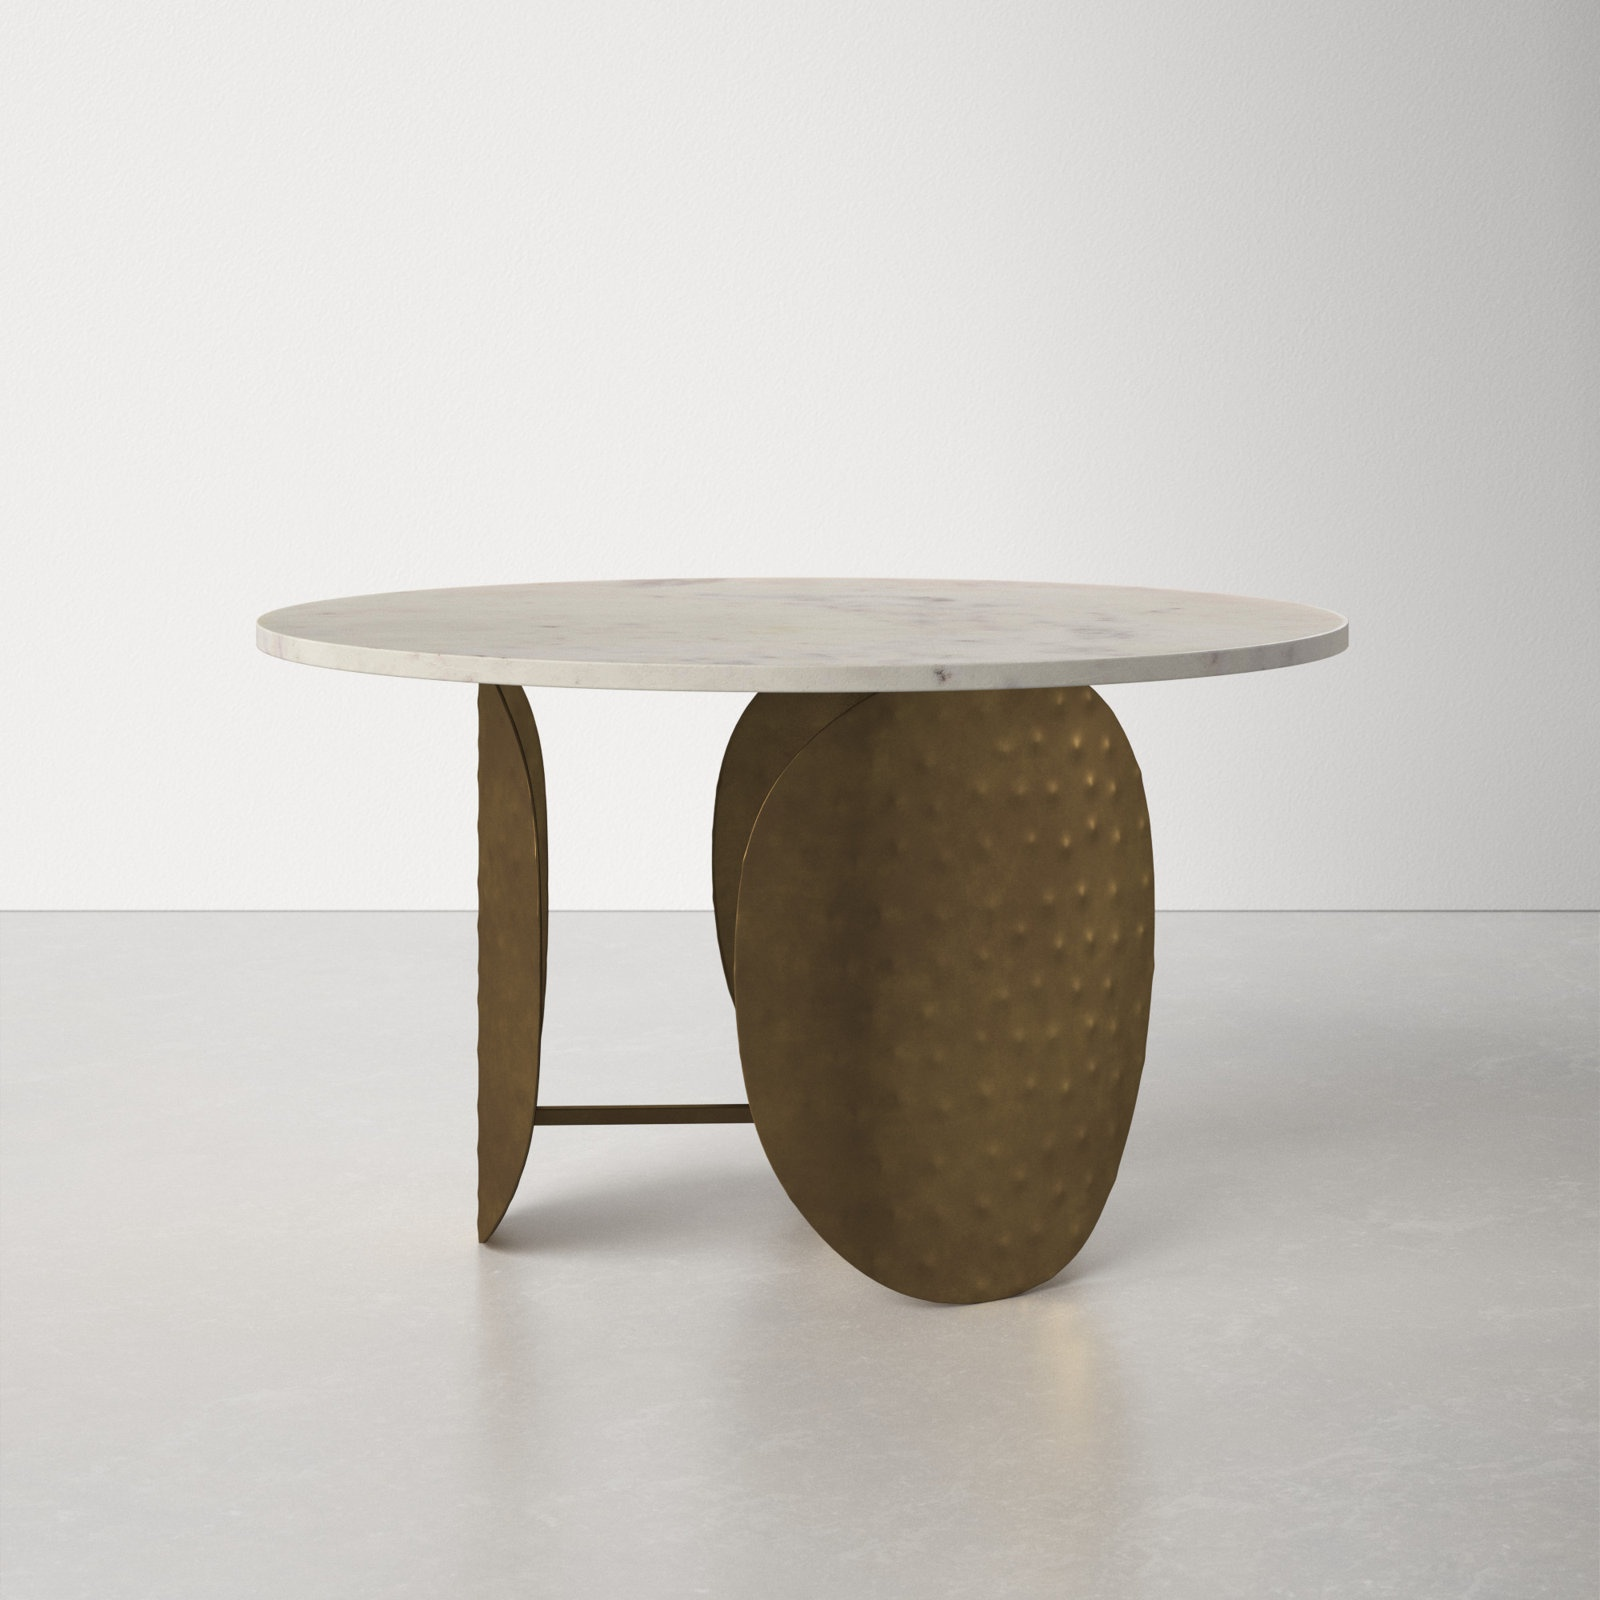obstacle: (258, 579, 1347, 1303)
